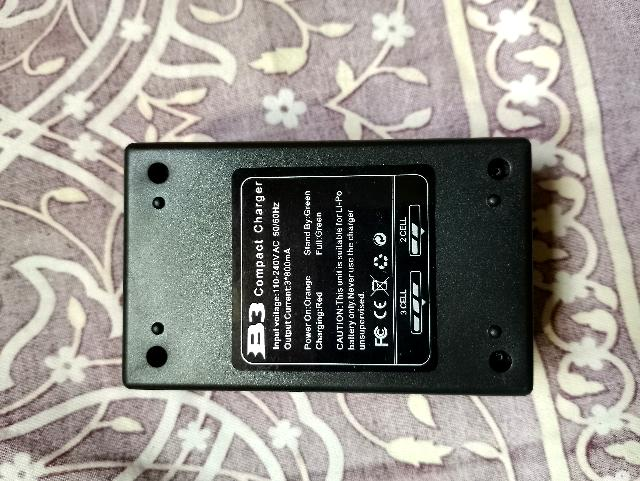hardplastic: (98, 124, 552, 409)
